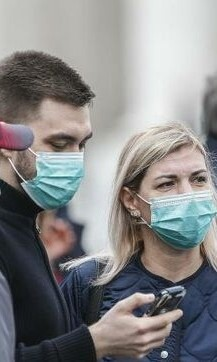with_mask: (5, 66, 96, 214), (122, 131, 217, 261)
